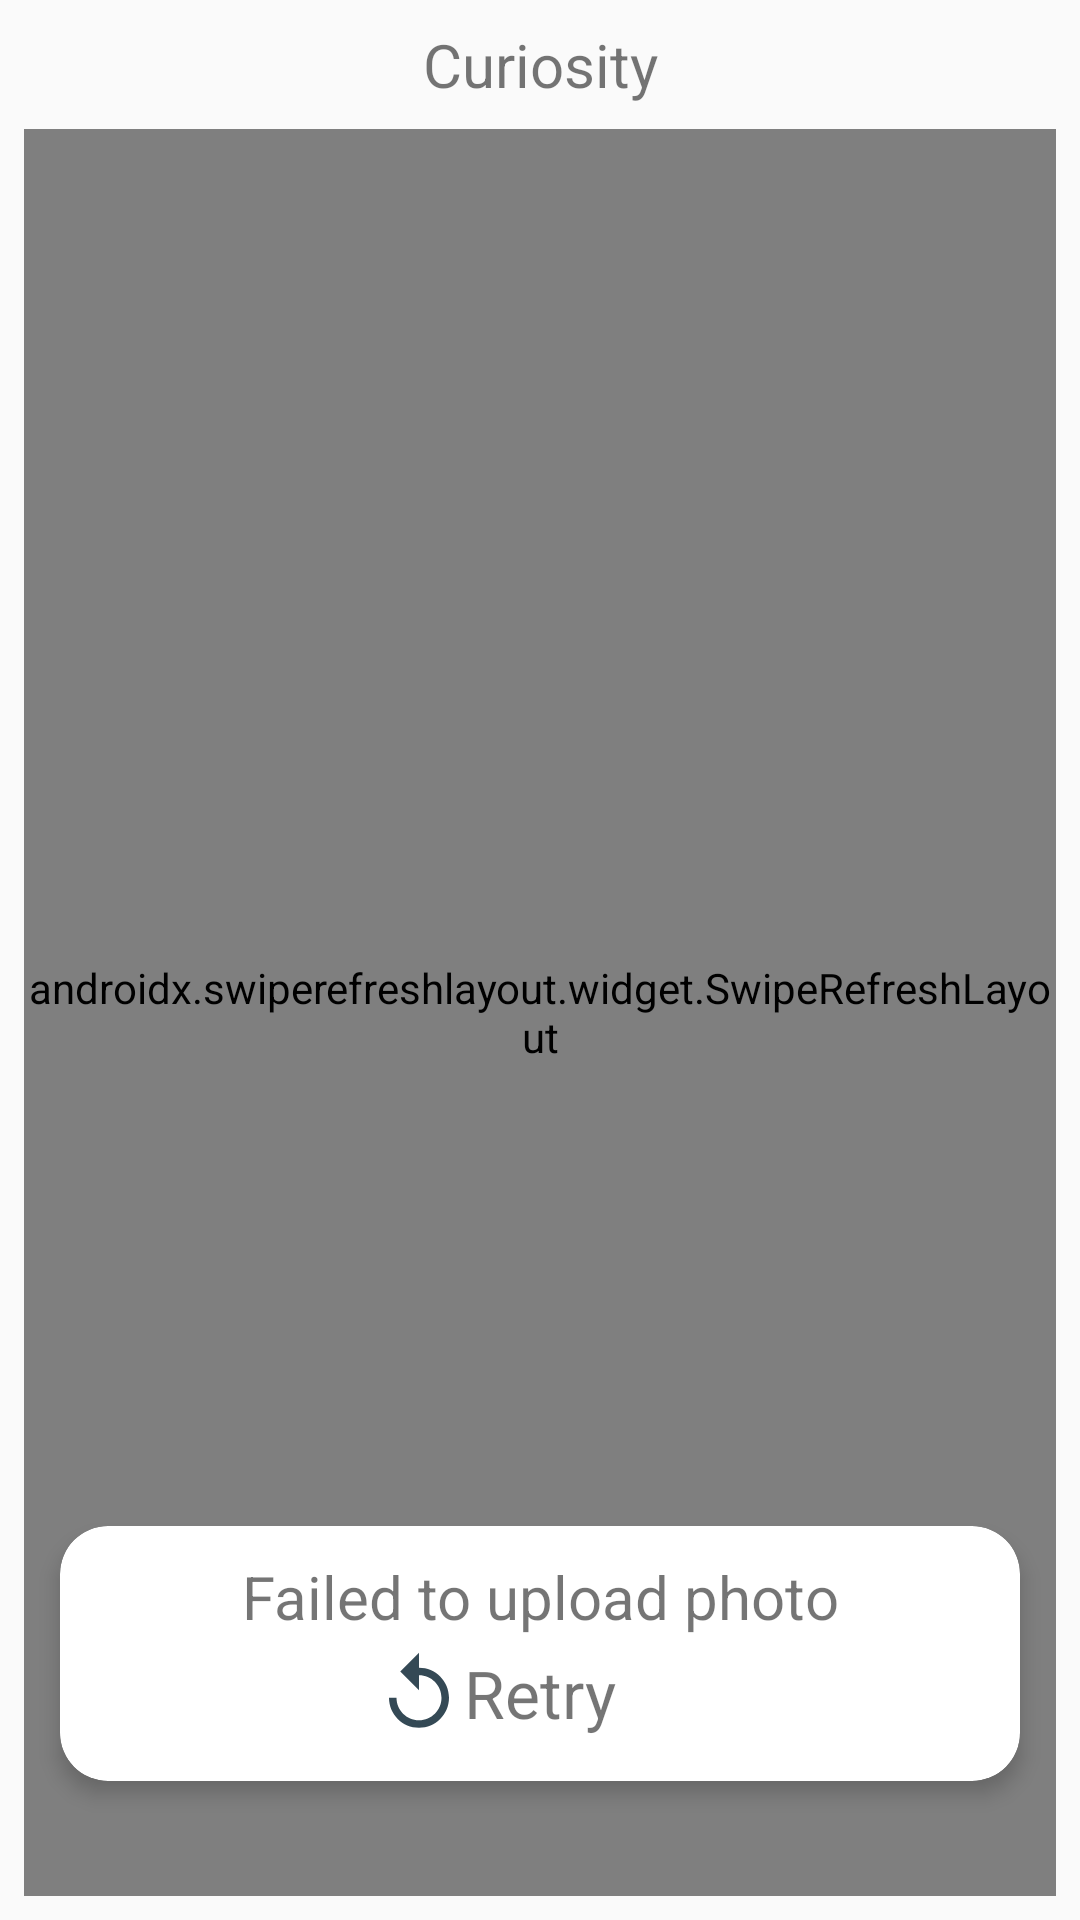

Where icons sit on this 1080 × 1920 app screen, as (x1, y1, x2, y2):
replay arrow: (389, 1653, 449, 1728)
